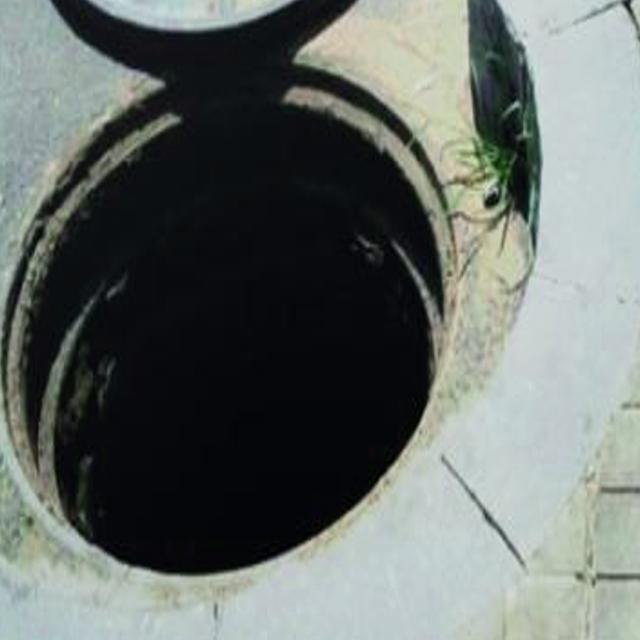uncovered: (0, 0, 474, 602)
